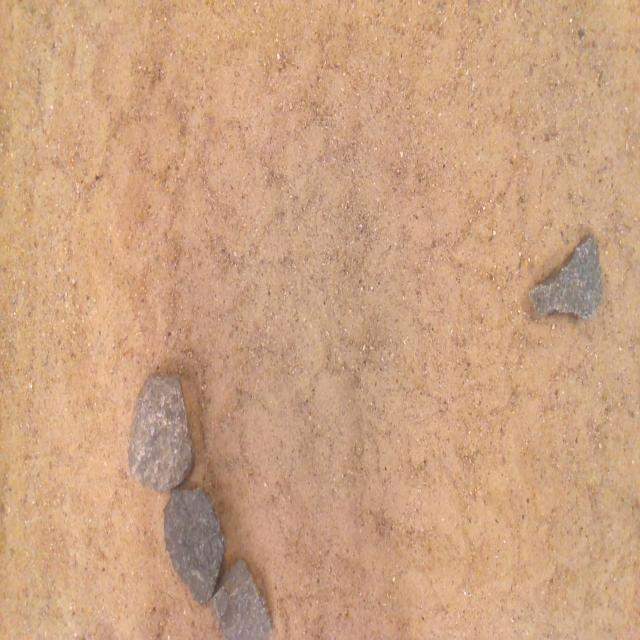rock: (129, 374, 194, 491), (164, 488, 225, 603), (529, 235, 602, 318), (214, 561, 272, 639)
